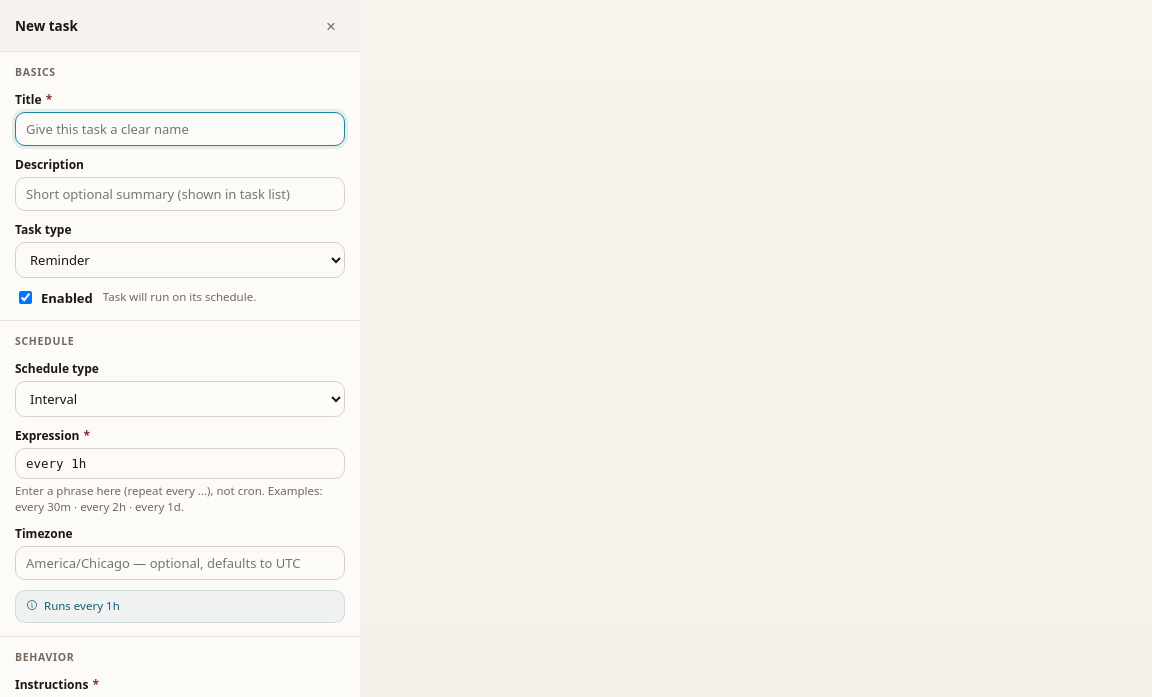
Test: Schedule summary preview › interval schedule shows 'Runs every Xh' preview
The image size is (1152, 697).
Default scheduleType is "interval" in create mode.
Step 1. Type "every 6h" into the field labelled "Expression *" → x=180, y=464, box [15, 448, 345, 479]
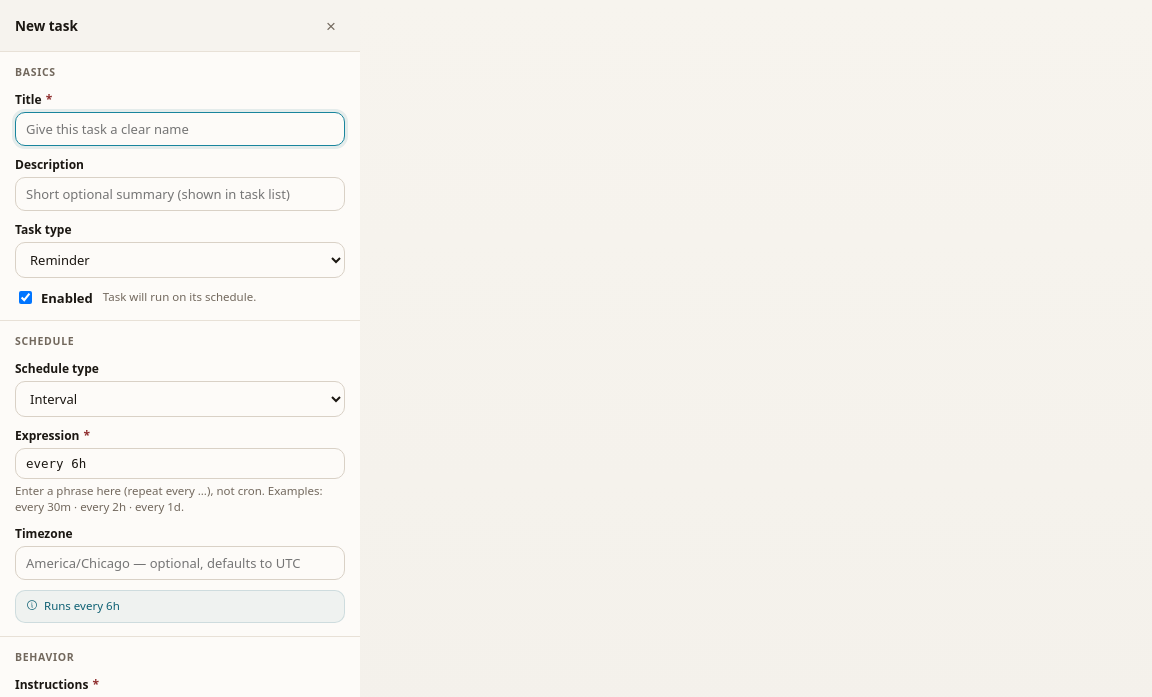
Expected: the message reads "Runs every 6h", [44, 598, 120, 613]
